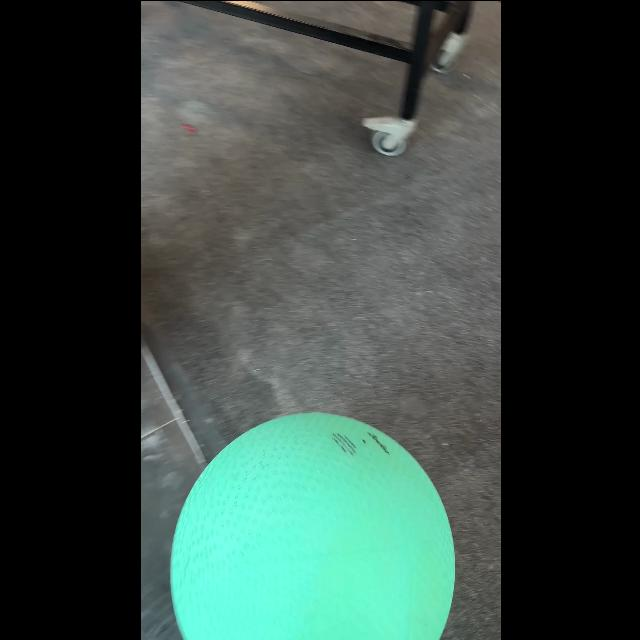ALGAE: (168, 410, 456, 638)
